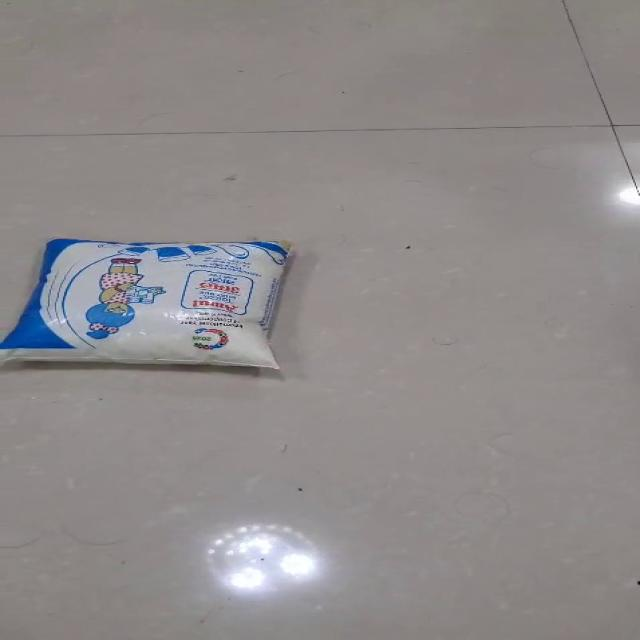plastic: (0, 236, 293, 370)
